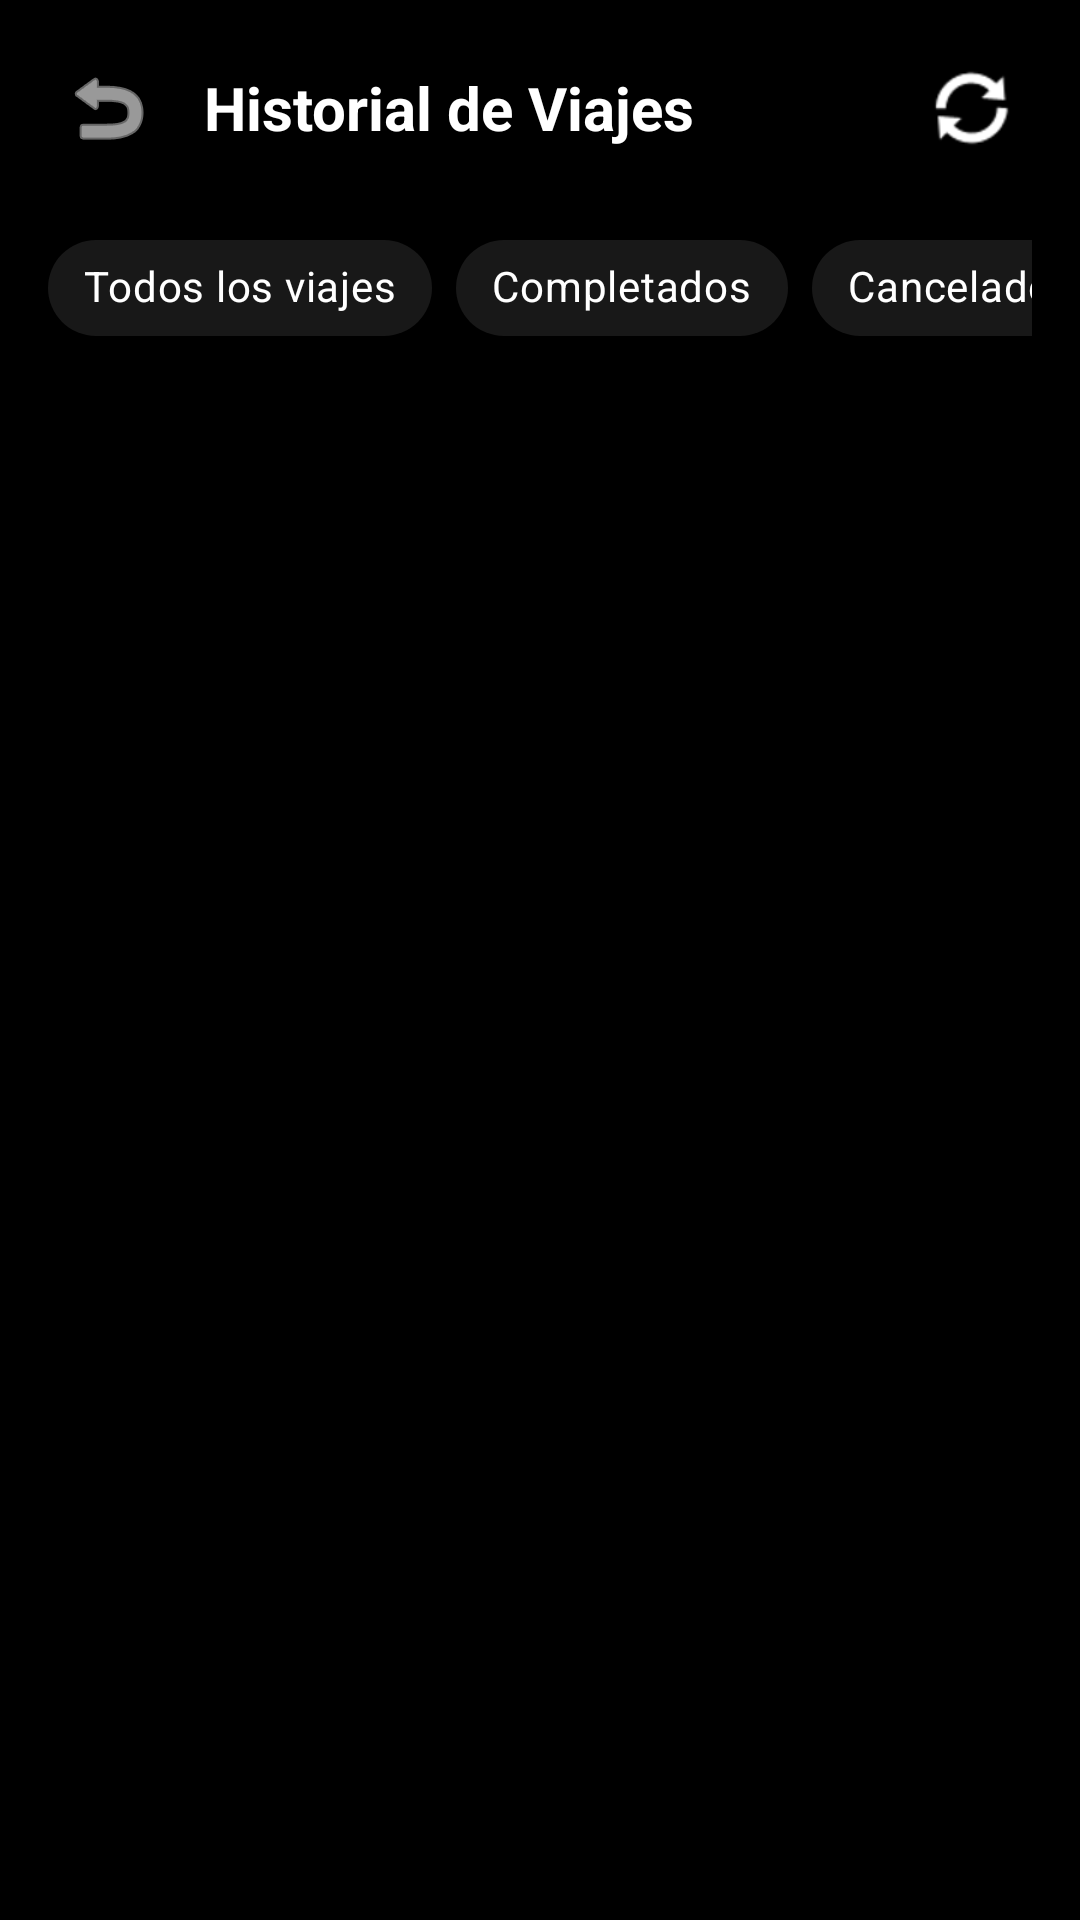

Icon bounding boxes for this 1080px x 1920px phone screenshot, format rect(x1, y1, x2, y2):
popup sync: rect(935, 72, 1009, 144)
revert: rect(75, 77, 144, 140)
